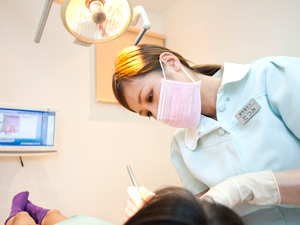mask: (157, 81, 201, 129)
